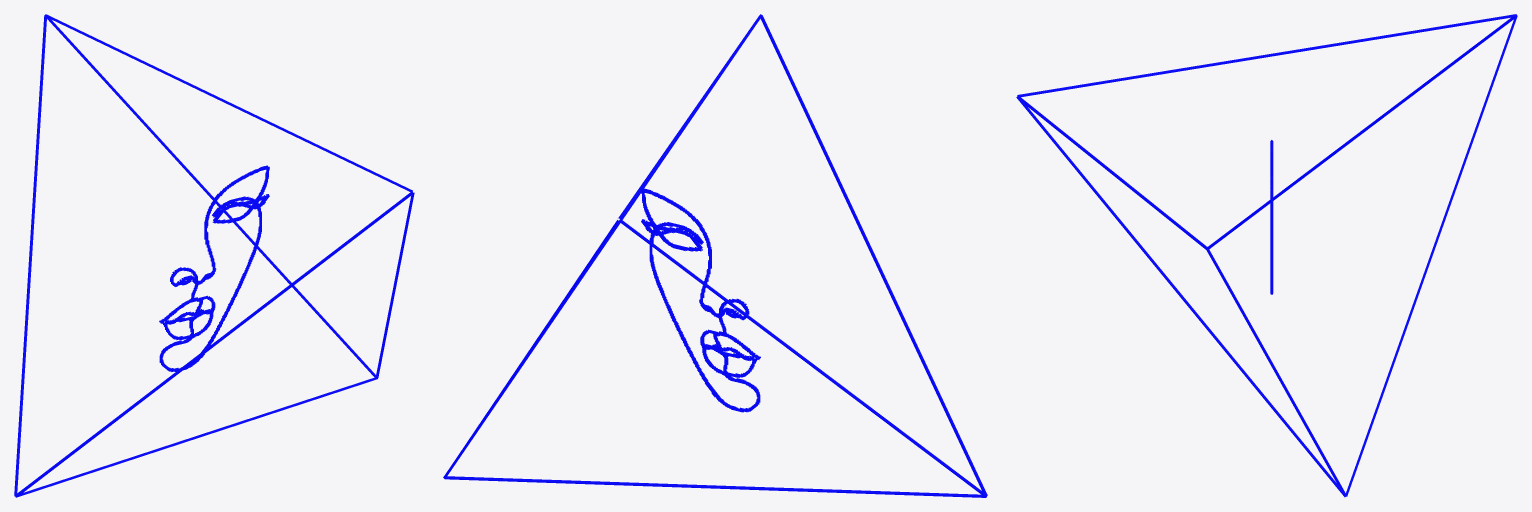
The picture shows the model from 3 angles, left to right: view 1: azimuth 30°, elevation 25°; view 2: azimuth 150°, elevation 25°; view 3: azimuth 270°, elevation 25°; orthographic projection. The views are drawn at different scales.
Bounding box in the file's own units: 0.9653 × 0.7743 × 0.9677.
